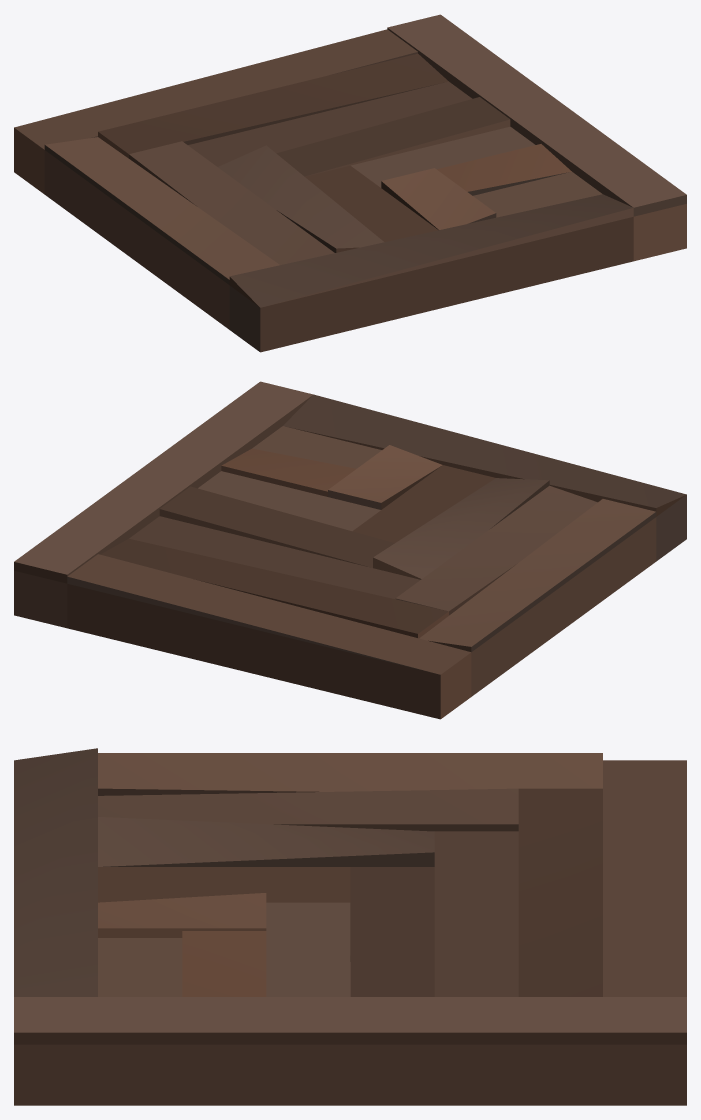
The model's file is Floor_PlanksTurnA_LOD0.fbx.
3 renders of one model, top to bottom at view 1: azimuth 30°, elevation 25°; view 2: azimuth 150°, elevation 25°; view 3: azimuth 270°, elevation 25°, orthographic. The views are drawn at different scales.
Visible parts, largest first — view 1: Floor_PlanksTurnA_LOD0; view 2: Floor_PlanksTurnA_LOD0; view 3: Floor_PlanksTurnA_LOD0.
Part boxes in pixels (x1,y1,x2,y2): Floor_PlanksTurnA_LOD0: (14,14,686,352); Floor_PlanksTurnA_LOD0: (14,381,686,719); Floor_PlanksTurnA_LOD0: (14,748,686,1105).
Bounding box in the file's own units: 250 × 31 × 250.
